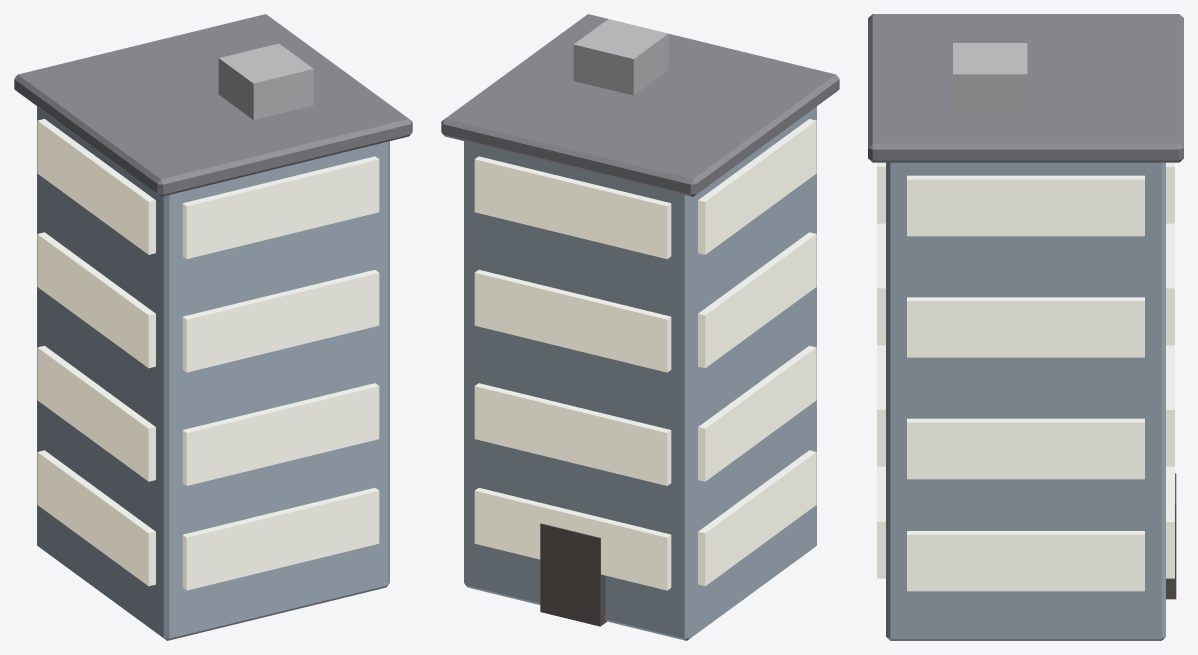
Rendered from bld_0_2.glb.
3 views of the same model, side by side, from view 1: azimuth 30°, elevation 25°; view 2: azimuth 150°, elevation 25°; view 3: azimuth 270°, elevation 25° (orthographic). The views are drawn at different scales.
Visible parts, largest first — view 1: w, rf, bz2.001, bz2.002, bz2, bz2.003, bx2, bx2.002, bx2.001, bx2.003, ac; view 2: w, rf, bz1.001, bz1.002, bz1.003, bz1, bx2, bx2.002, bx2.001, bx2.003, door, ac; view 3: w, rf, bx1.001, bx1.003, bx1, bx1.002, ac, bz1.002, bz2.002, bz1.001, bz2.001, bz1 (+4 smaller).
Part boxes in pixels (x1,y1,x2,y2): w: [37, 106, 389, 640]; rf: [14, 14, 412, 196]; bz2.001: [182, 383, 379, 485]; bz2.002: [182, 270, 379, 372]; bz2: [182, 488, 379, 590]; bz2.003: [182, 156, 379, 258]; bx2: [37, 450, 155, 586]; bx2.002: [37, 232, 155, 368]; bx2.001: [37, 345, 155, 481]; bx2.003: [37, 119, 155, 254]; ac: [218, 43, 313, 119]; w: [464, 106, 816, 640]; rf: [441, 14, 839, 196]; bz1.001: [474, 383, 671, 485]; bz1.002: [474, 270, 671, 372]; bz1.003: [474, 156, 671, 258]; bz1: [474, 488, 671, 590]; bx2: [698, 450, 816, 586]; bx2.002: [698, 232, 816, 368]; bx2.001: [698, 345, 816, 481]; bx2.003: [698, 119, 816, 254]; door: [540, 523, 606, 626]; ac: [573, 19, 668, 95]; w: [886, 162, 1165, 640]; rf: [868, 14, 1183, 162]; bx1.001: [907, 418, 1144, 479]; bx1.003: [907, 175, 1144, 236]; bx1: [907, 531, 1144, 591]; bx1.002: [907, 297, 1144, 357]; ac: [953, 43, 1027, 113]; bz1.002: [1166, 223, 1174, 345]; bz2.002: [877, 223, 885, 345]; bz1.001: [1166, 345, 1174, 466]; bz2.001: [877, 345, 885, 466]; bz1: [1166, 466, 1174, 578].
Size of the model in its own units: 2.12 by 4.03 by 2.12.
